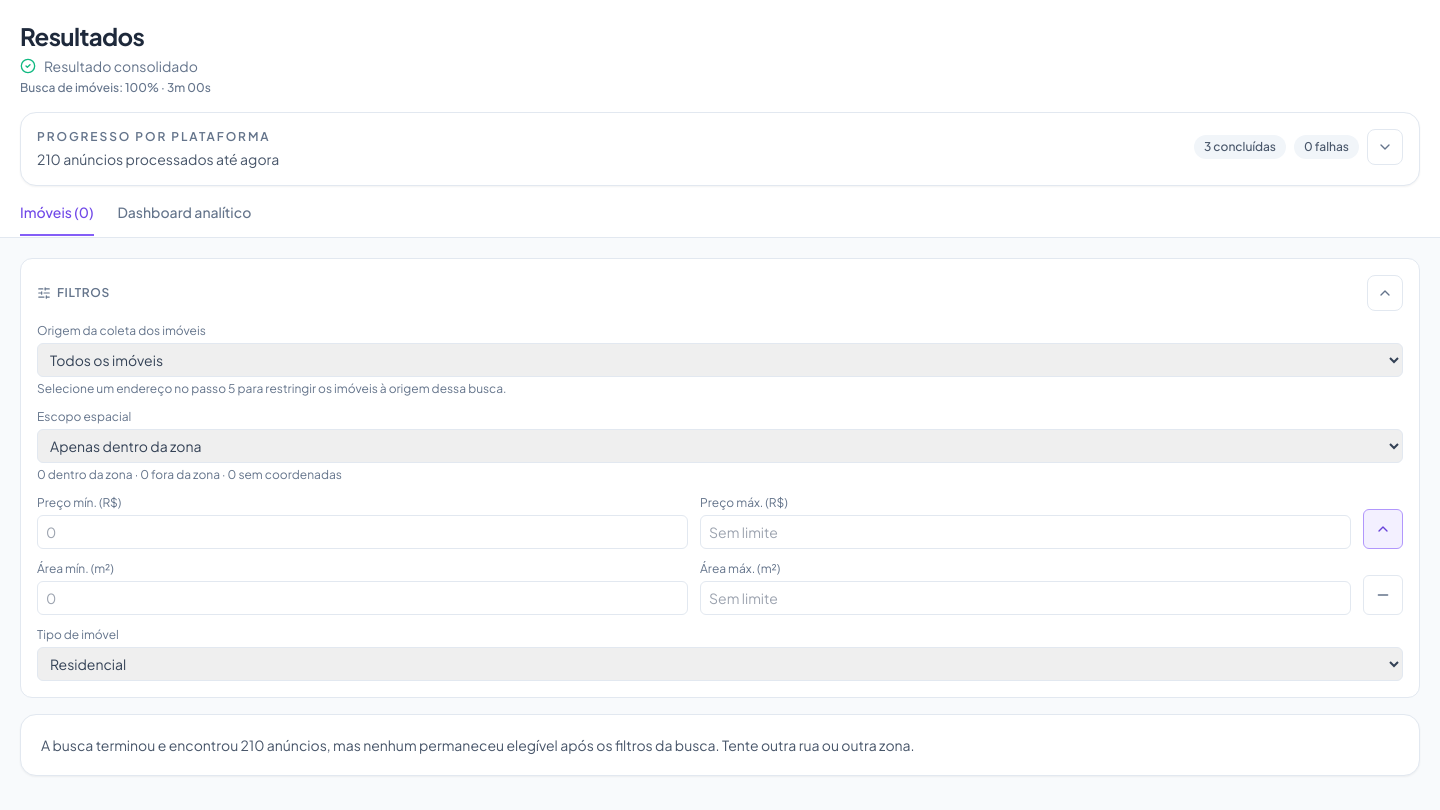
Scenario: Step6Analysis › explains when scraping completed but no listings fell inside the zone
Expected: the element with test id "listings-platform-progress" is shown, [20,112,1420,186]
Expected: the text "QuintoAndar" is not shown
Click the button named "expandir progresso do scraping" at (1385, 147), box [1367,129,1403,165]
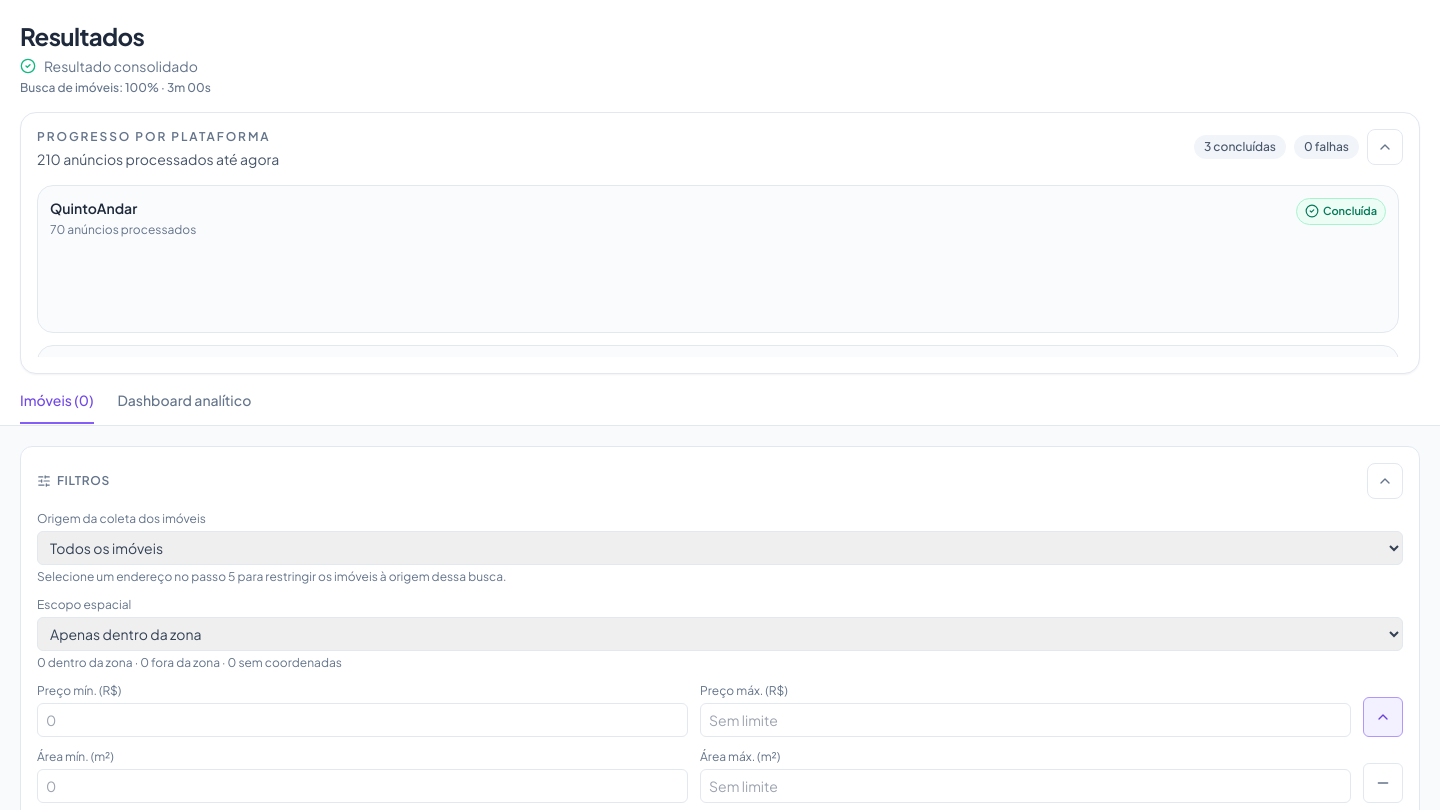
Expected: the text "Resultado consolidado" is shown, [20,56,211,76]
Expected: the button named "recolher progresso do scraping" is expanded, [1367,129,1403,165]
Expected: the text "QuintoAndar" is shown, [50,199,137,217]
